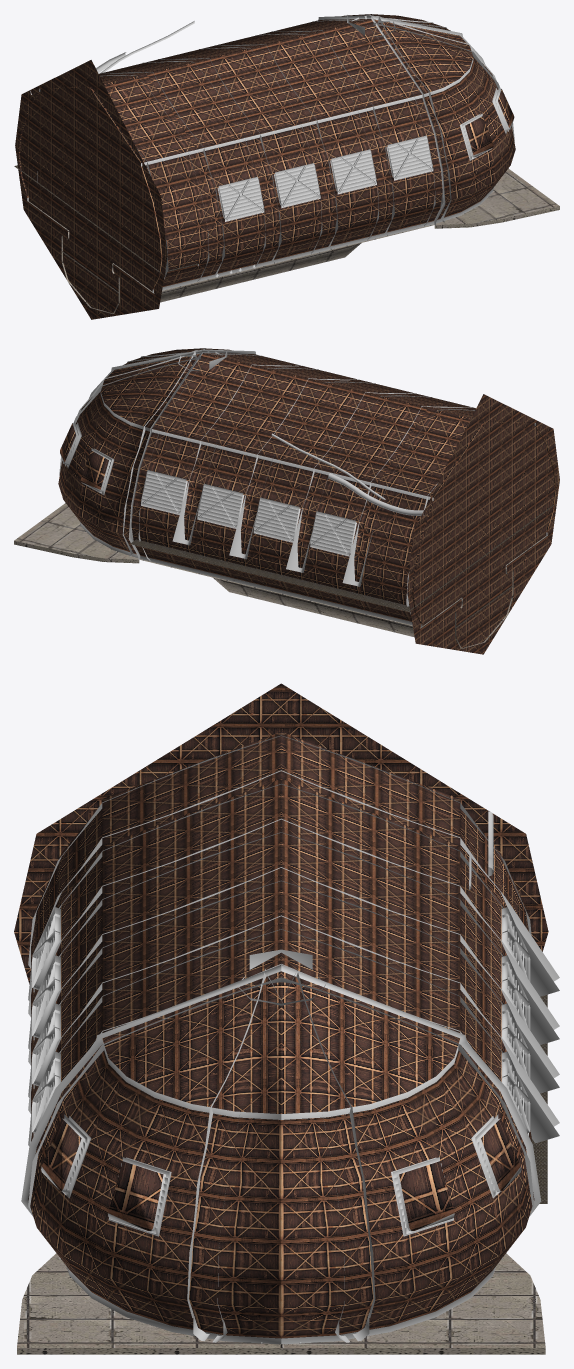
Rendered from Hangar_Interior_Final.fbx.
The picture shows the model from 3 angles, top to bottom: view 1: azimuth 30°, elevation 25°; view 2: azimuth 150°, elevation 25°; view 3: azimuth 270°, elevation 25°; orthographic projection. The views are drawn at different scales.
Parts seen in each view (by area): view 1: Hangar_Wall_A, Hangar_Wall_C, Hangar_Door_A, Floor, Hangar_Wall_B, Hangar_Door_B, High_Detail_Cables; view 2: Hangar_Wall_B, Hangar_Wall_C, Hangar_Door_B, Floor, Hangar_Wall_A, Second_Floor, High_Detail_Cables, Hangar_Door_A, Camera_Safe_Arch; view 3: Hangar_Door_A, Hangar_Door_B, Hangar_Wall_B, Hangar_Wall_A, Floor, Hangar_Wall_C, Camera_Safe_Arch, Second_Floor, Topcover.
Part boxes in pixels (x1,y1,x2,y2): Hangar_Wall_A: (90,17,451,292); Hangar_Wall_C: (15,60,167,319); Hangar_Door_A: (370,15,515,225); Floor: (27,168,559,313); Hangar_Wall_B: (18,19,369,201); Hangar_Door_B: (318,14,450,30); High_Detail_Cables: (30,21,194,94); Hangar_Wall_B: (131,353,484,627); Hangar_Wall_C: (407,394,559,654); Hangar_Door_B: (58,349,204,559); Floor: (14,503,547,648); Hangar_Wall_A: (195,350,556,535); Second_Floor: (130,504,555,611); High_Detail_Cables: (271,433,424,515); Hangar_Door_A: (89,348,255,398); Camera_Safe_Arch: (122,351,209,561); Hangar_Door_A: (21,965,295,1344); Hangar_Door_B: (267,965,541,1344); Hangar_Wall_B: (281,732,559,1143); Hangar_Wall_A: (28,732,281,1259); Floor: (17,1253,545,1354); Hangar_Wall_C: (14,683,548,984); Camera_Safe_Arch: (281,964,534,1259); Second_Floor: (531,994,547,1203); Topcover: (237,949,325,1005).
Bounding box in the file's own units: 16.38 × 9.94 × 10.78.
